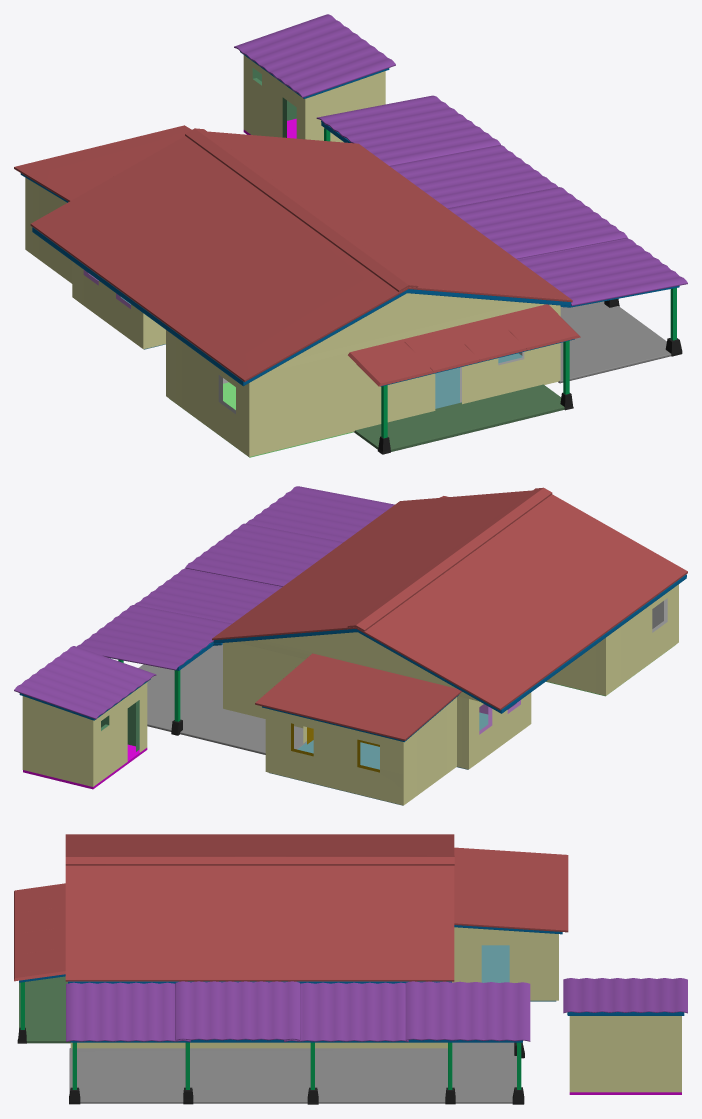
The model's file is FINAL_CasaAvo.fbx.
3 renders of one model, top to bottom at view 1: azimuth 30°, elevation 25°; view 2: azimuth 150°, elevation 25°; view 3: azimuth 270°, elevation 25°, orthographic. The views are drawn at different scales.
Parts seen in each view (by area): view 1: TelhMain_Telhado, EXT_Casa, TelhFrente_Telhas, TelhBagunca_Telha2, TelhBagunca_Telha4, TelhBagunca_Telha, TelhBagunca_Telha1, TelhBagunca_Telha3, EXT_QBagunça, Chao_Frente, Chao_Garagem, TelhAtras_Telhado (+3 smaller); view 2: TelhMain_Telhado, EXT_Casa, TelhAtras_Telhado, EXT_QBagunça, Chao_Garagem, TelhBagunca_Telha4, TelhBagunca_Telha2, TelhBagunca_Telha, TelhBagunca_Telha1, TelhBagunca_Telha3, TelhMain_Borda, Chao_Principal (+3 smaller); view 3: TelhMain_Telhado, Chao_Garagem, TelhAtras_Telhado, EXT_QBagunça, EXT_Casa, TelhBagunca_Telha4, TelhBagunca_Telha2, TelhBagunca_Telha1, TelhBagunca_Telha3, TelhFrente_Telhas, TelhBagunca_Telha, Chao_Frente (+6 smaller).
Boxes of the visible parts, box(x1,y1,x2,y2) form: TelhMain_Telhado: box(30, 128, 572, 381); EXT_Casa: box(25, 177, 560, 456); TelhFrente_Telhas: box(348, 304, 580, 386); TelhBagunca_Telha2: box(447, 187, 627, 259); TelhBagunca_Telha4: box(316, 95, 500, 166); TelhBagunca_Telha: box(234, 14, 395, 97); TelhBagunca_Telha1: box(517, 238, 687, 305); TelhBagunca_Telha3: box(390, 145, 558, 208); EXT_QBagunça: box(243, 55, 385, 142); Chao_Frente: box(354, 384, 564, 451); Chao_Garagem: box(558, 301, 671, 383); TelhAtras_Telhado: box(14, 125, 191, 201); TelhMain_Telhado: box(212, 487, 687, 710); EXT_Casa: box(223, 584, 678, 805); TelhAtras_Telhado: box(255, 653, 461, 740); EXT_QBagunça: box(22, 682, 147, 786); Chao_Garagem: box(138, 643, 306, 754); TelhBagunca_Telha4: box(77, 605, 231, 670); TelhBagunca_Telha2: box(185, 523, 343, 586); TelhBagunca_Telha: box(14, 646, 156, 719); TelhBagunca_Telha1: box(246, 486, 394, 541); TelhBagunca_Telha3: box(134, 568, 281, 623); TelhMain_Borda: box(213, 574, 686, 713); Chao_Principal: box(269, 712, 488, 805); TelhMain_Telhado: box(65, 834, 454, 981); Chao_Garagem: box(69, 1042, 516, 1103); TelhAtras_Telhado: box(454, 847, 568, 932); EXT_QBagunça: box(569, 1016, 681, 1092); EXT_Casa: box(70, 927, 558, 1048); TelhBagunca_Telha4: box(405, 981, 530, 1041); TelhBagunca_Telha2: box(175, 981, 300, 1040); TelhBagunca_Telha1: box(66, 982, 190, 1041); TelhBagunca_Telha3: box(284, 982, 408, 1041); TelhFrente_Telhas: box(14, 883, 65, 981); TelhBagunca_Telha: box(563, 978, 687, 1013); Chao_Frente: box(19, 976, 70, 1043).
Bounding box in the file's own units: 162 × 48.26 × 235.
